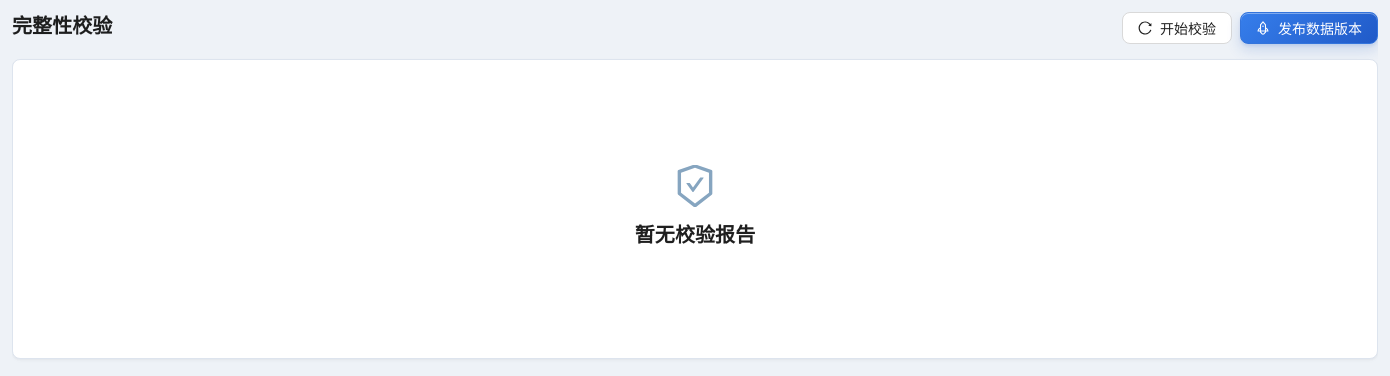
Test: direct version operations › publishes after validation and navigates directly to the returned job
The image size is (1390, 376).
Click the button "发布数据版本": (1309, 28) [1240,12,1378,44]
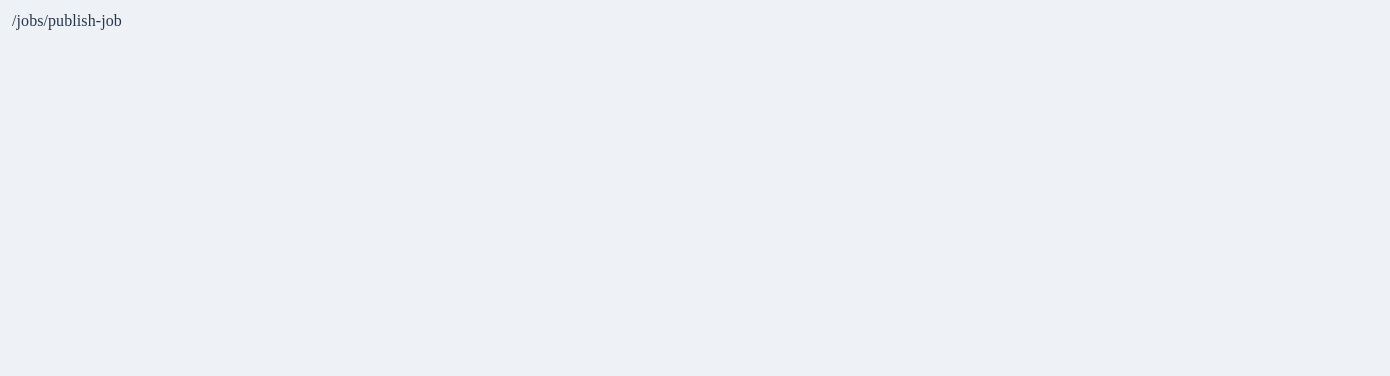
Result: the text with test id "destination" reads "/jobs/publish-job" at [12,12,122,29]
